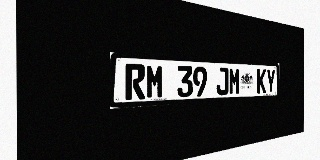3: (177, 66, 192, 97)
9: (193, 66, 207, 97)
J: (216, 67, 229, 95)
K: (257, 69, 266, 93)
M: (146, 64, 164, 99), (229, 68, 240, 95)
R: (125, 63, 145, 100)
Y: (266, 69, 275, 93)
